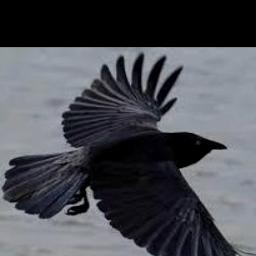Crow: (2, 53, 256, 256)
